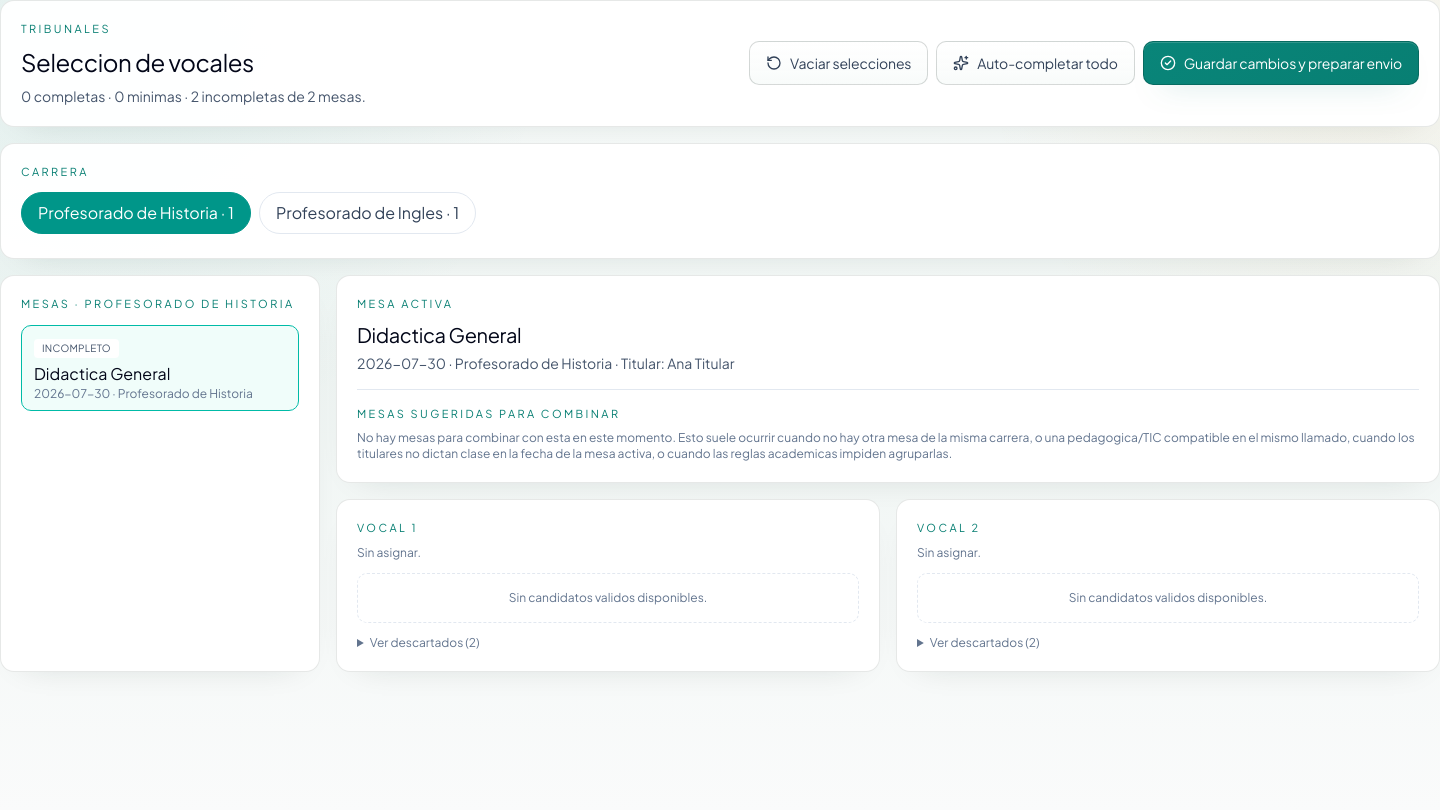
Test: InteractiveVocalSelectionPanel (UI real montada con el hook) › filtro por carrera › muestra tabs de carrera y filtra la lista de mesas cuando hay mas de una carrera
Expected: the button "Profesorado de Historia · 1" is shown, [21, 192, 251, 234]
Expected: the text "Didactica General" is shown, [34, 362, 170, 384]
Click the button "Profesorado de Ingles · 1" at x=368, y=213, box [259, 192, 476, 234]
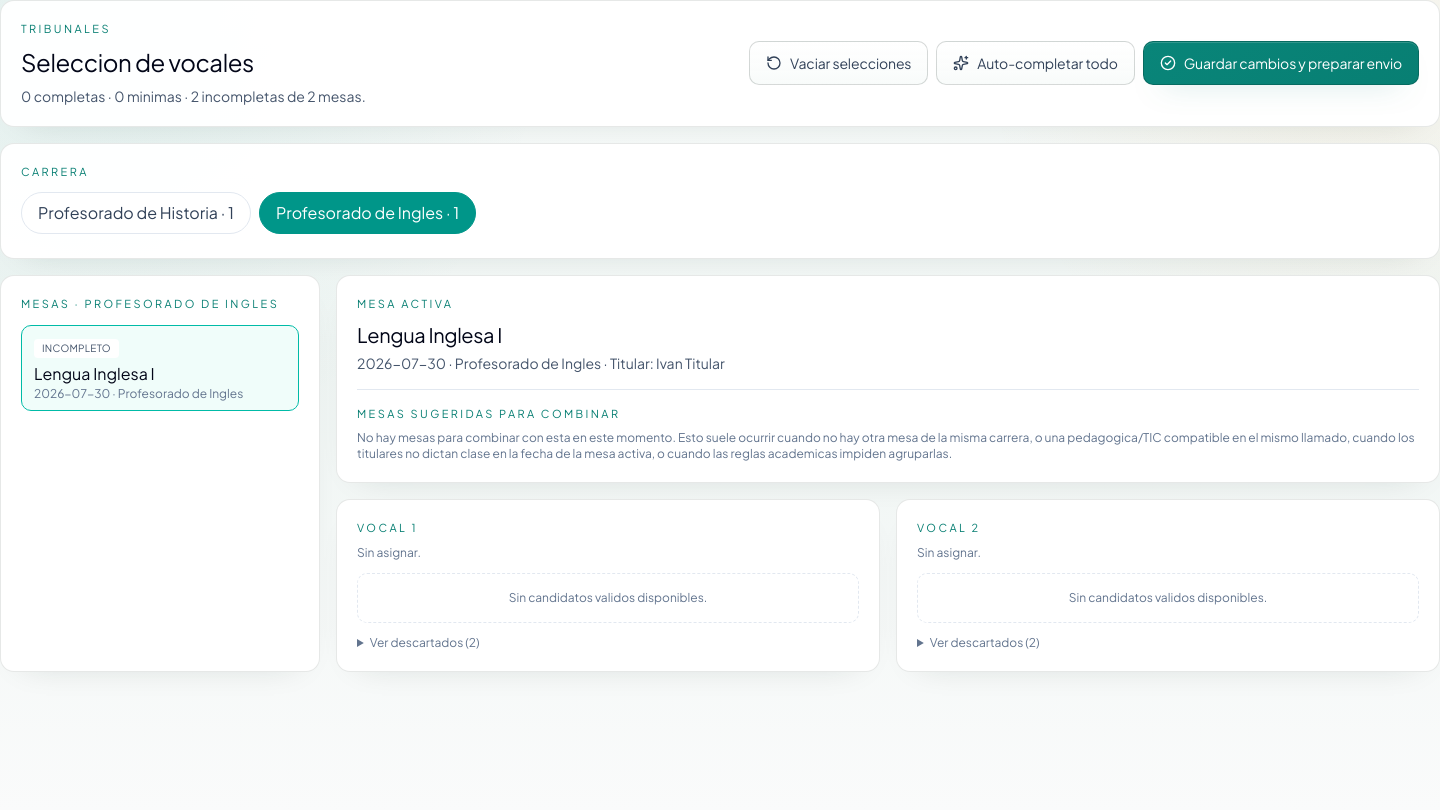
Expected: the text "Mesa activa" is shown, [357, 297, 453, 310]
Now the text "Lengua Inglesa I" is shown, box [34, 362, 155, 384]
